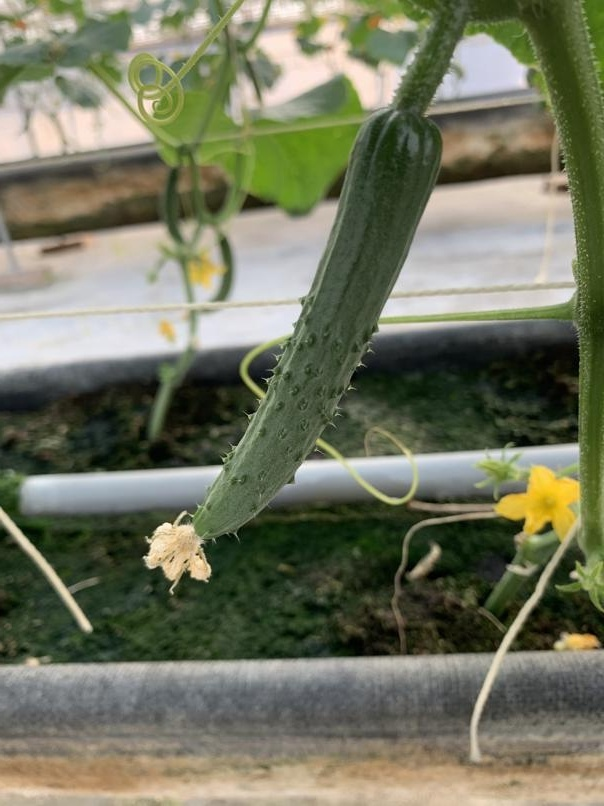growth: (153, 82, 459, 593)
